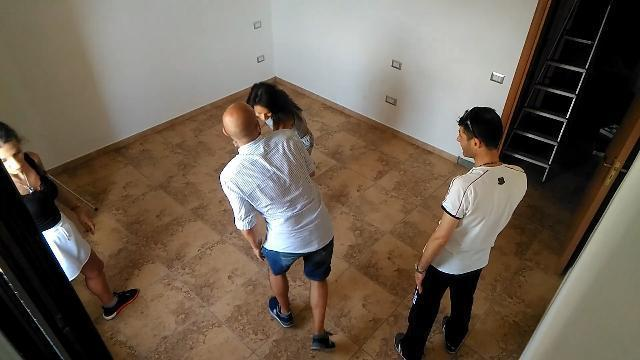non-violence: (398, 106, 526, 360), (221, 101, 343, 351), (0, 116, 140, 320)
violence: (242, 74, 316, 184)
